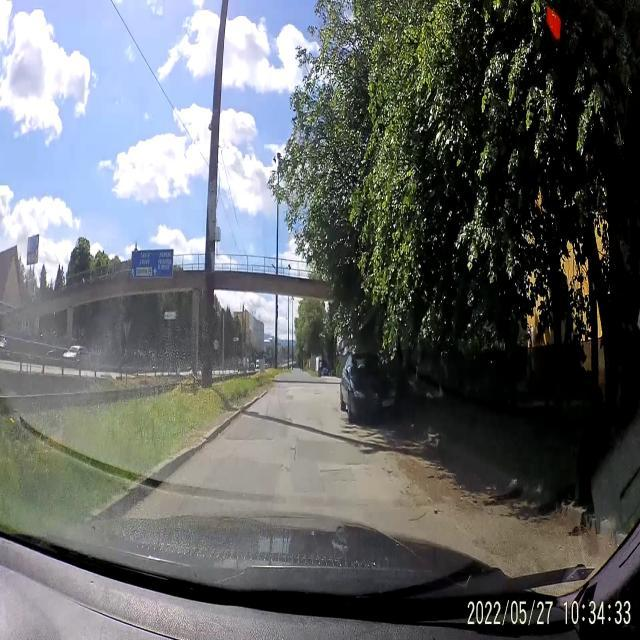Pothole: (312, 456, 363, 476), (220, 433, 270, 448)
